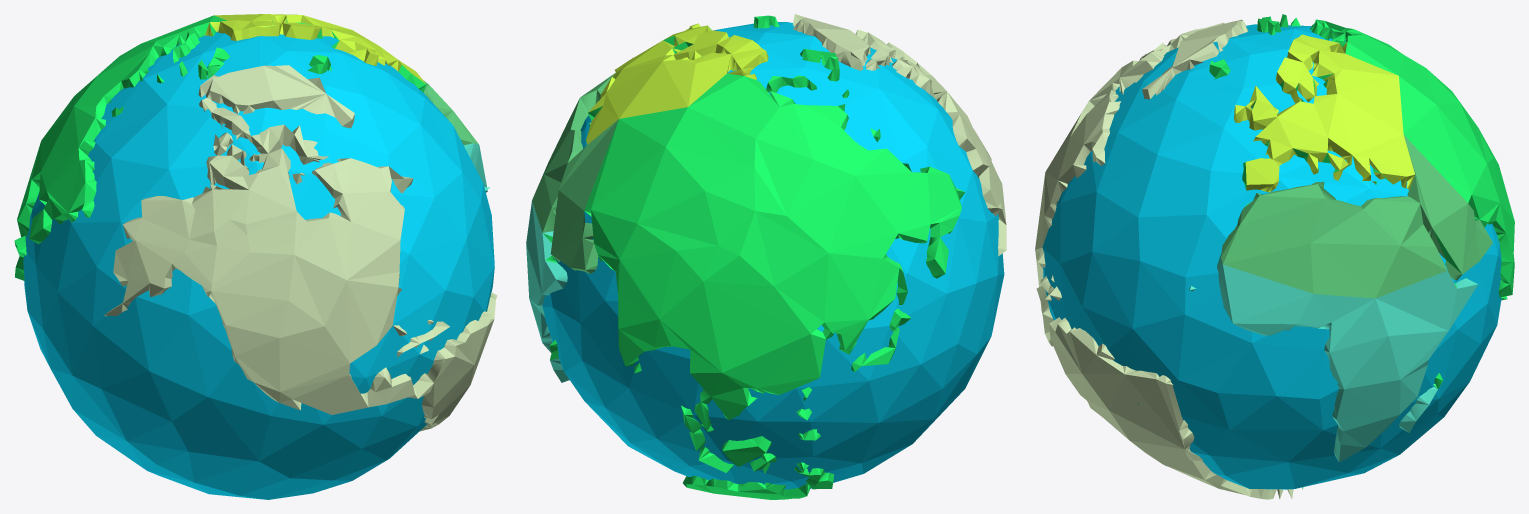
The model's file is lowpoly_earth_region.fbx.
The picture shows the model from 3 angles, left to right: view 1: azimuth 30°, elevation 25°; view 2: azimuth 150°, elevation 25°; view 3: azimuth 270°, elevation 25°; orthographic projection.
Parts seen in each view (by area): view 1: low_poly_earth; view 2: low_poly_earth; view 3: low_poly_earth.
Part boxes in pixels (x1,y1,x2,y2): low_poly_earth: [14, 14, 497, 499]; low_poly_earth: [526, 14, 1006, 499]; low_poly_earth: [1035, 14, 1514, 499].
Bounding box in the file's own units: 195 × 201 × 199.
